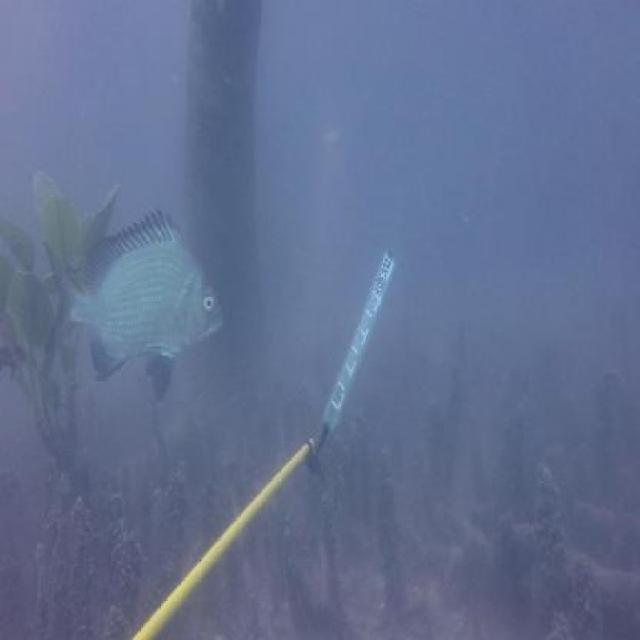acanthopagrus_palmaris: (40, 206, 228, 409)
